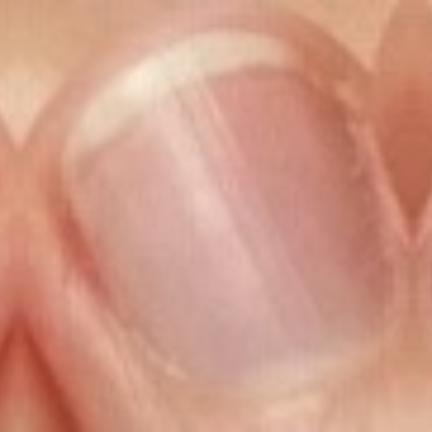Nail: (58, 26, 392, 397), (432, 279, 432, 283)
